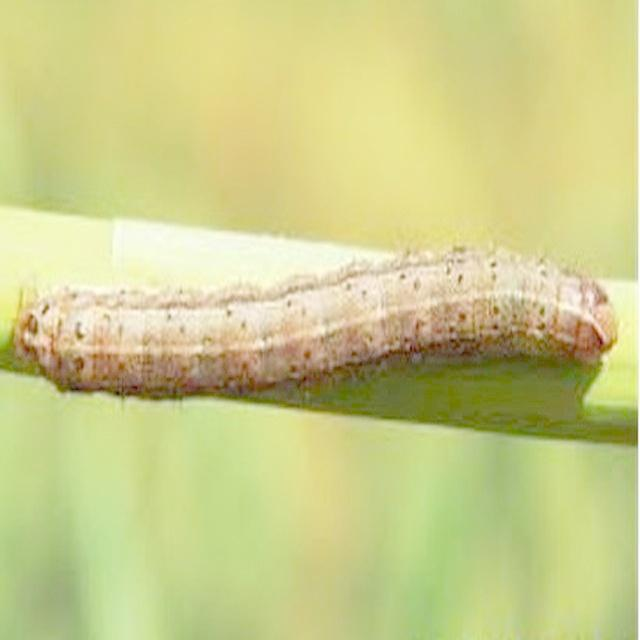pest: (21, 269, 612, 395)
